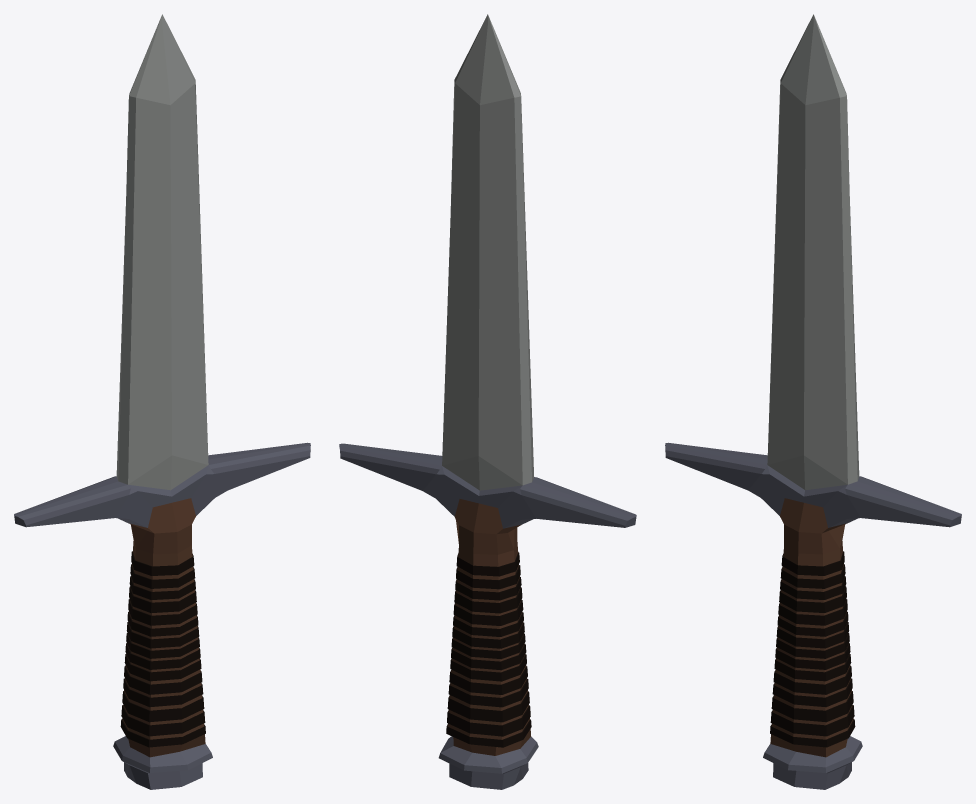
The model's file is sword.fbx.
3 views of the same model, side by side, from view 1: azimuth 30°, elevation 25°; view 2: azimuth 150°, elevation 25°; view 3: azimuth 330°, elevation 25° (orthographic).
Visible parts, largest first — view 1: Cube; view 2: Cube; view 3: Cube.
Part boxes in pixels (box(x1,y1,x2,y2)): Cube: box(14, 14, 310, 789); Cube: box(339, 14, 636, 789); Cube: box(665, 14, 961, 789).
Bounding box in the file's own units: 147 × 361 × 42.5.
